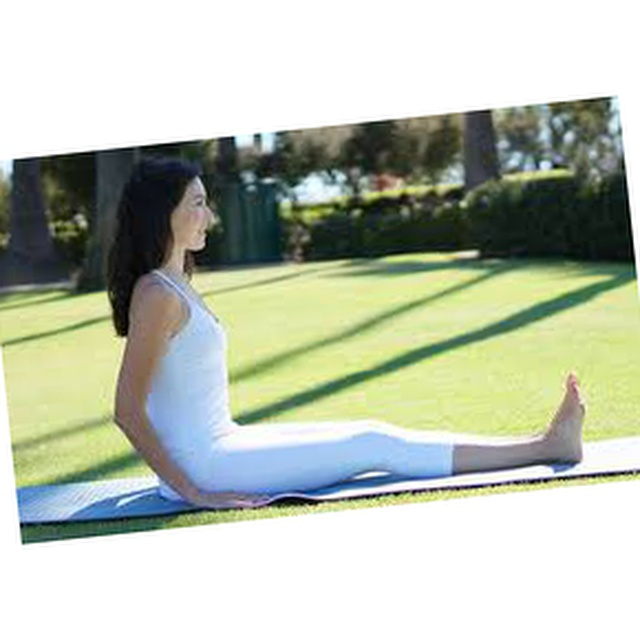Staff_Pose: (107, 155, 589, 510)
